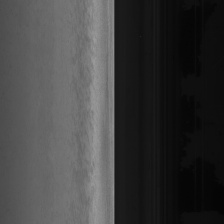silk_spot: (73, 87, 92, 157)
